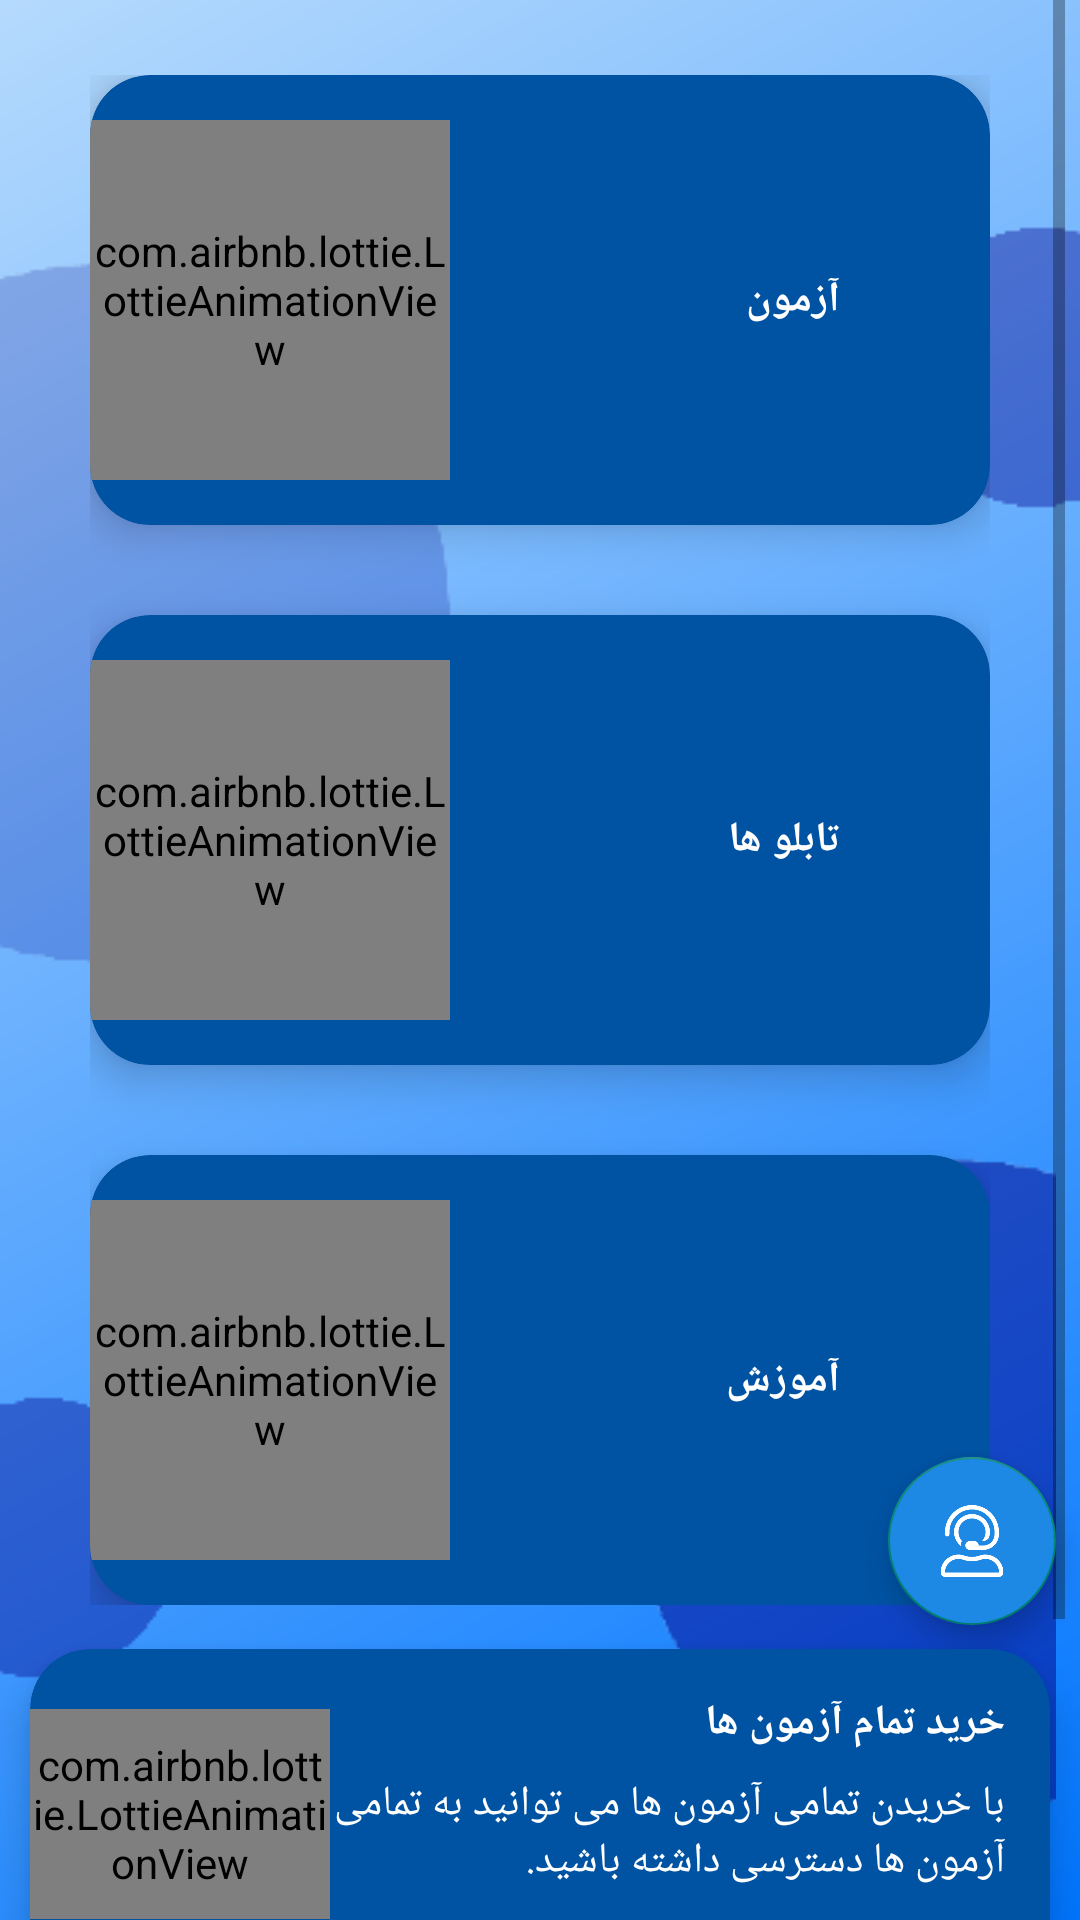

Named icons in this screenshot (1080×1920) and their centers, (x,y):
support: (972,1541)
